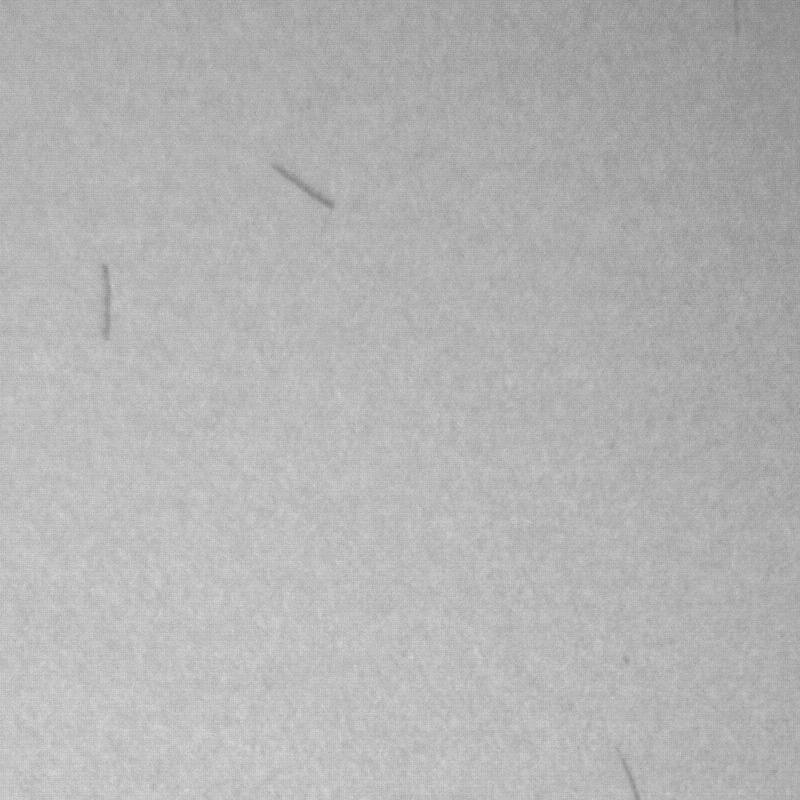defect: (269, 170, 346, 215), (99, 265, 120, 345), (615, 749, 640, 800), (730, 1, 745, 37)
